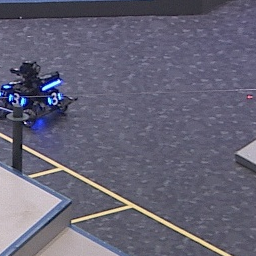Blue: (6, 92, 26, 107), (47, 90, 62, 104)
Robot: (1, 60, 76, 126)
